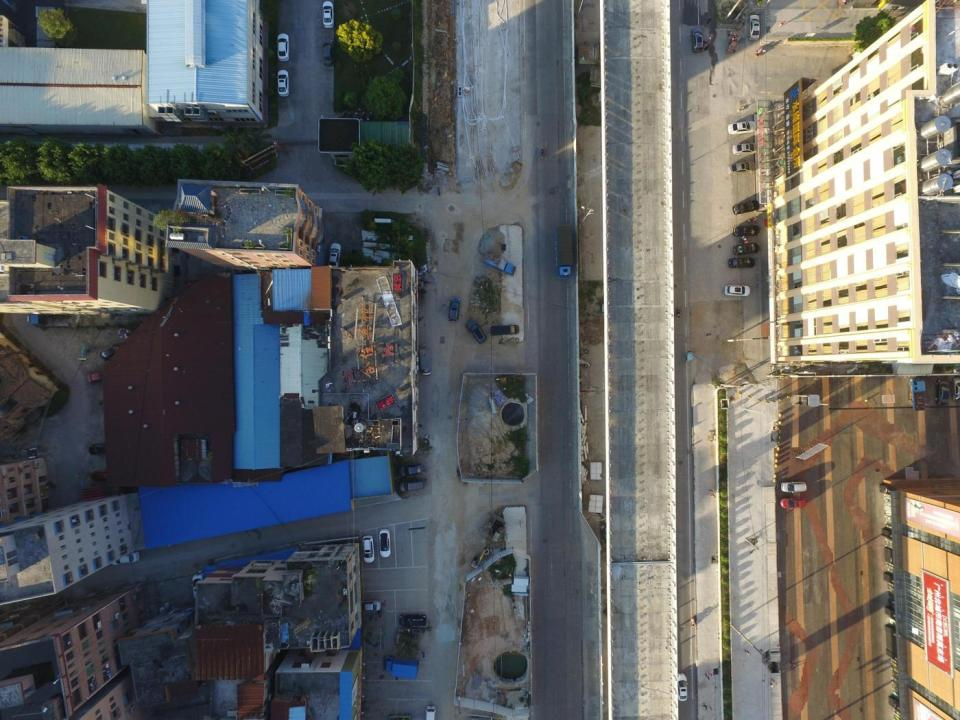car: (102, 551, 142, 565), (465, 318, 486, 344), (377, 528, 393, 558), (101, 340, 124, 360), (732, 200, 759, 216), (398, 613, 426, 628), (728, 120, 756, 135), (276, 33, 290, 62), (276, 69, 290, 97), (728, 161, 756, 175), (327, 242, 342, 268), (361, 534, 374, 564), (676, 672, 689, 701), (88, 440, 113, 455), (780, 480, 806, 494), (935, 377, 948, 405), (732, 142, 758, 156), (86, 369, 110, 384), (728, 256, 755, 269), (322, 0, 334, 29), (91, 470, 120, 482), (448, 296, 461, 322), (398, 463, 424, 476), (780, 497, 806, 510), (725, 284, 751, 297), (691, 27, 704, 53), (321, 38, 333, 66), (733, 243, 760, 255), (358, 599, 382, 612), (399, 480, 424, 492), (733, 225, 760, 236), (749, 15, 760, 40)
truck: (554, 224, 573, 279), (382, 655, 420, 679), (484, 251, 516, 276), (909, 377, 927, 412), (418, 348, 433, 376)
van: (489, 322, 519, 336), (424, 705, 437, 720)
